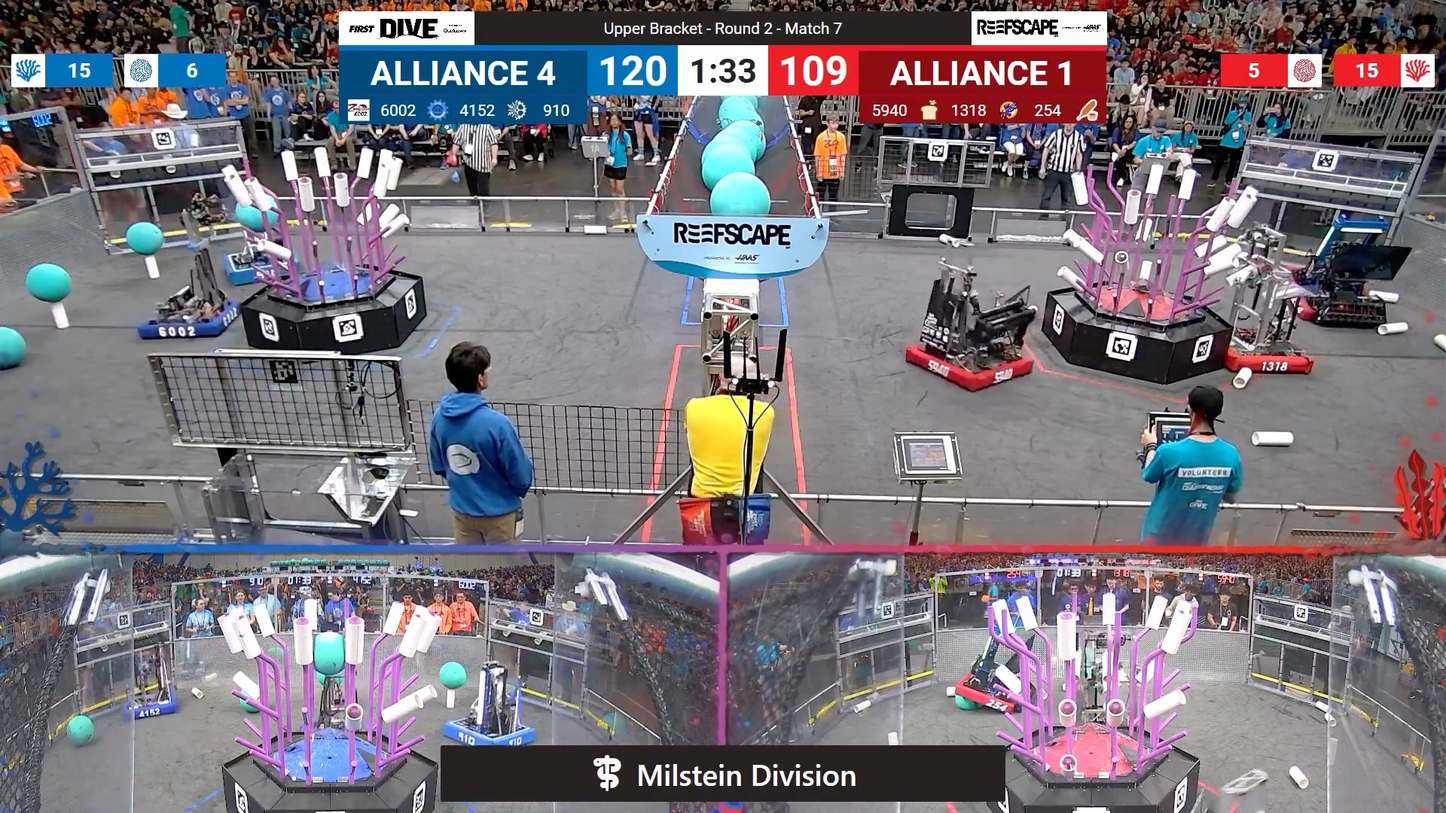bumpers: (897, 335, 1043, 395), (1213, 329, 1323, 382), (135, 294, 239, 344), (952, 667, 1038, 716), (437, 712, 539, 749), (213, 249, 300, 287), (120, 692, 189, 724)
